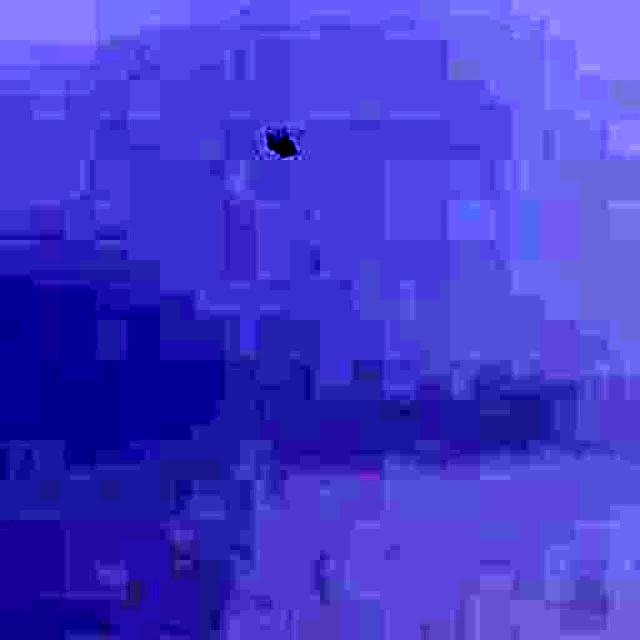drone: (259, 122, 305, 169)
